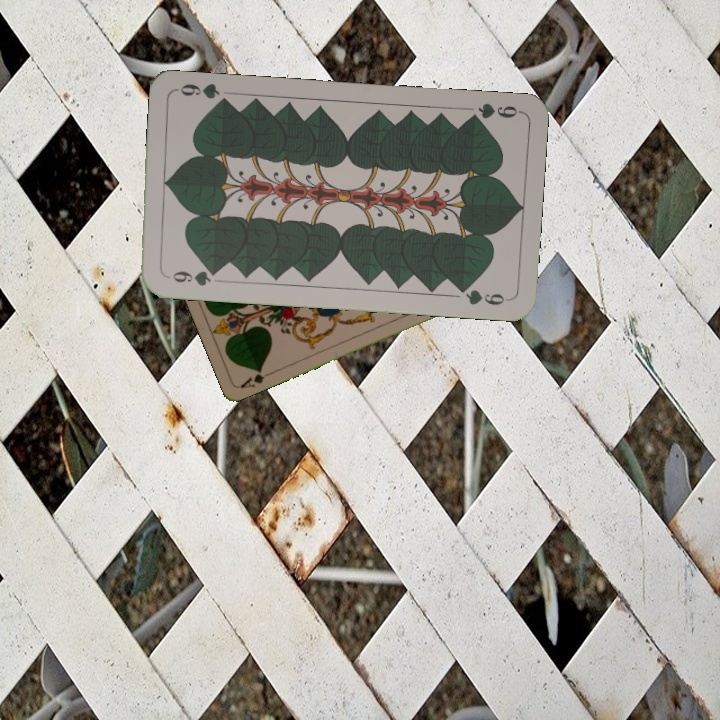G9: (463, 99, 523, 125), (162, 266, 221, 289)
GA: (236, 365, 275, 391)
